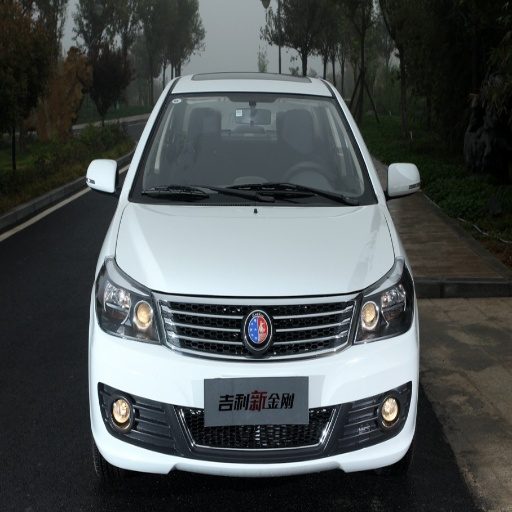front_bumper: (93, 291, 412, 475)
front_right_light: (96, 260, 164, 342)
hood: (117, 202, 395, 297)
left_mirror: (385, 162, 421, 200)
